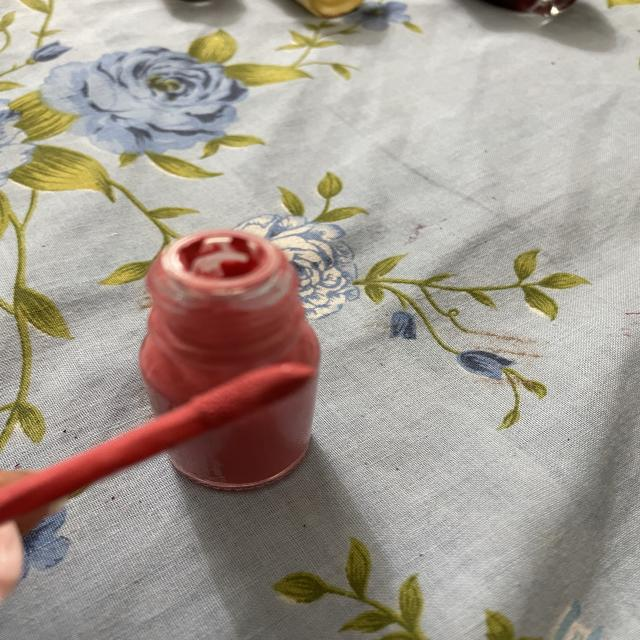Tint: (120, 213, 352, 516), (0, 339, 356, 521)
